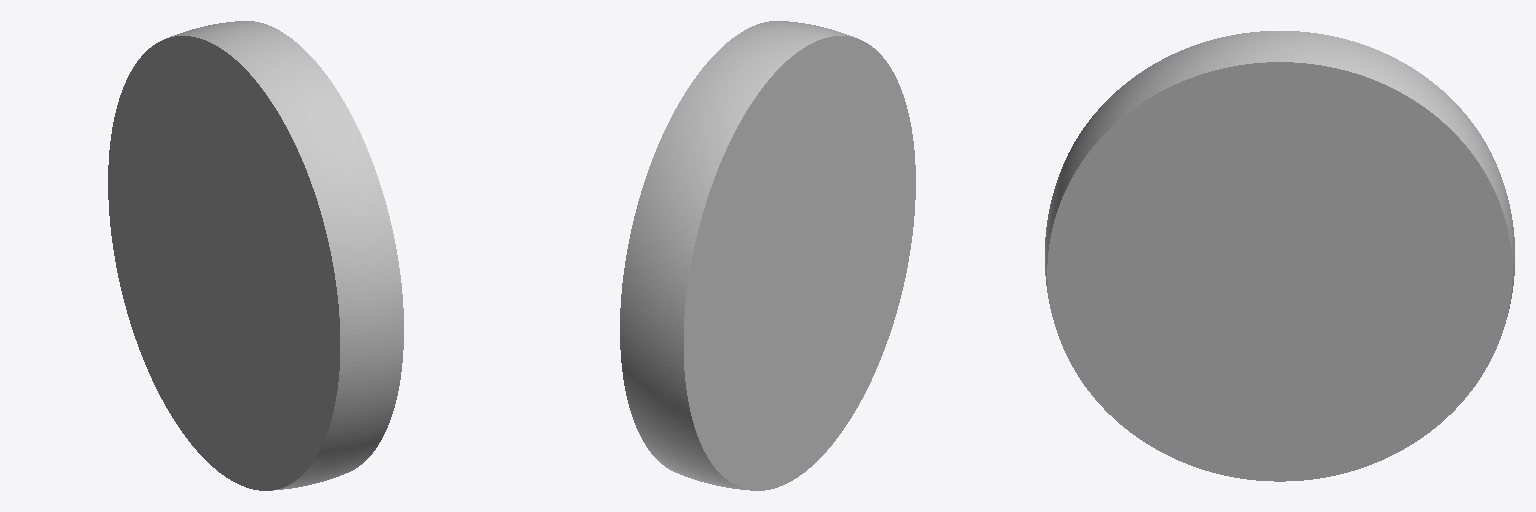
File: disc.obj
3 renders of one model, left to right at view 1: azimuth 30°, elevation 25°; view 2: azimuth 150°, elevation 25°; view 3: azimuth 270°, elevation 25°, orthographic.
Visible parts, largest first — view 1: Quad_Sphere; view 2: Quad_Sphere; view 3: Quad_Sphere.
Part boxes in pixels (x1,y1,x2,y2): Quad_Sphere: (108,21,403,490); Quad_Sphere: (620,21,915,490); Quad_Sphere: (1045,31,1514,481).
Size of the model in its own units: 0.4277 by 2.57 by 2.57.